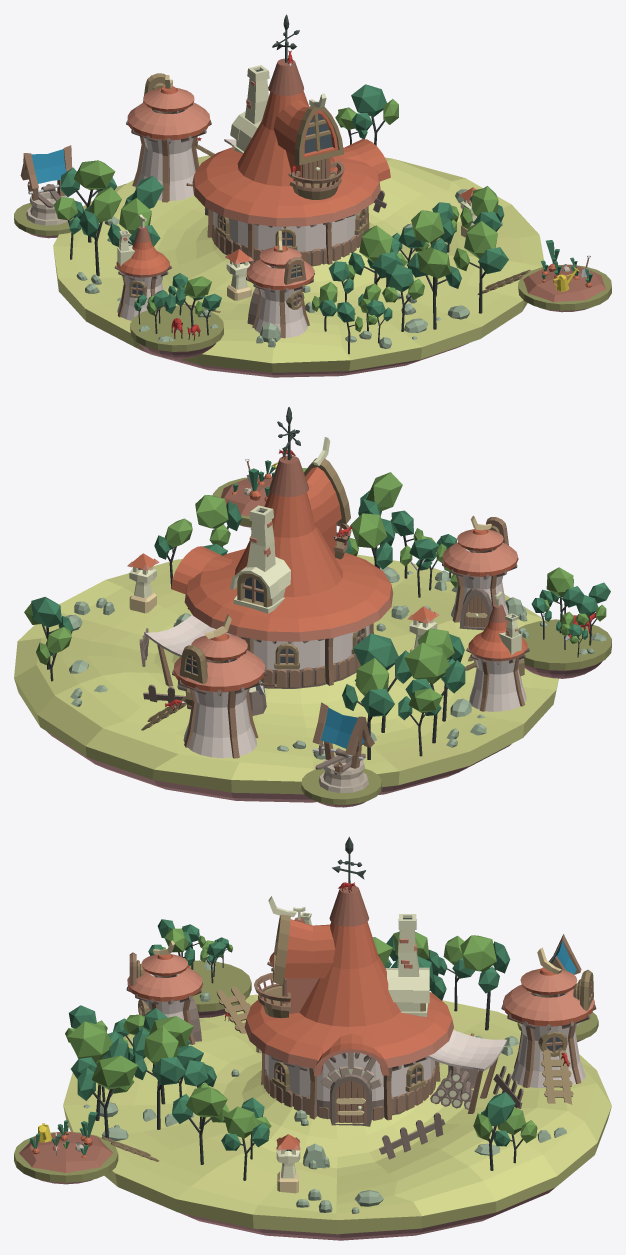
Rendered from FoxsIslands-v1.glb.
3 views of the same model, one above another, from view 1: azimuth 30°, elevation 25°; view 2: azimuth 150°, elevation 25°; view 3: azimuth 270°, elevation 25° (orthographic). The views are drawn at different scales.
Visible parts, largest first — view 1: pCylinder11, polySurface11, polySurface1188, polySurface12, polySurface345, polySurface342, polySurface16, polySurface1054, pCube205, polySurface840, pSphere1, polySurface1208 (+29 smaller); view 2: pCylinder11, polySurface11, polySurface345, polySurface1188, pSphere1, polySurface342, polySurface1122, polySurface1054, polySurface12, polySurface838, polySurface16, polySurface1522 (+35 smaller); view 3: pCylinder11, polySurface11, polySurface16, polySurface12, polySurface342, pCube205, polySurface1054, pSphere1, polySurface900, polySurface1188, polySurface345, polySurface838 (+31 smaller).
Boxes of the visible parts, bbox=[...] form: pCylinder11: bbox=[53, 155, 543, 372]; polySurface11: bbox=[192, 90, 380, 226]; polySurface1188: bbox=[130, 305, 223, 351]; polySurface12: bbox=[213, 208, 366, 251]; polySurface345: bbox=[135, 110, 195, 200]; polySurface342: bbox=[127, 102, 210, 140]; polySurface16: bbox=[274, 100, 338, 182]; polySurface1054: bbox=[335, 84, 398, 145]; pCube205: bbox=[523, 264, 606, 302]; polySurface840: bbox=[254, 265, 307, 337]; pSphere1: bbox=[95, 326, 468, 377]; polySurface1208: bbox=[518, 264, 611, 310]; pCylinder11: bbox=[14, 554, 558, 794]; polySurface11: bbox=[184, 491, 393, 641]; polySurface345: bbox=[183, 659, 256, 758]; polySurface1188: bbox=[518, 619, 611, 670]; pSphere1: bbox=[47, 732, 511, 802]; polySurface342: bbox=[173, 650, 265, 692]; polySurface1122: bbox=[469, 658, 526, 711]; polySurface1054: bbox=[24, 596, 73, 681]; polySurface12: bbox=[244, 625, 369, 670]; polySurface838: bbox=[442, 542, 517, 576]; polySurface16: bbox=[305, 467, 341, 556]; polySurface1522: bbox=[301, 768, 381, 804]; pCylinder11: bbox=[63, 994, 611, 1234]; polySurface11: bbox=[244, 922, 453, 1068]; polySurface16: bbox=[284, 919, 335, 1014]; polySurface12: bbox=[265, 1052, 434, 1101]; polySurface342: bbox=[503, 984, 594, 1026]; pCube205: bbox=[19, 1131, 113, 1172]; polySurface1054: bbox=[473, 1092, 537, 1170]; pSphere1: bbox=[180, 1187, 555, 1240]; polySurface900: bbox=[427, 1030, 506, 1071]; polySurface1188: bbox=[188, 960, 251, 1011]; polySurface345: bbox=[511, 993, 585, 1087]; polySurface838: bbox=[127, 967, 202, 1001].
Bounding box in the file's own units: 0.5494 × 0.364 × 0.588.
